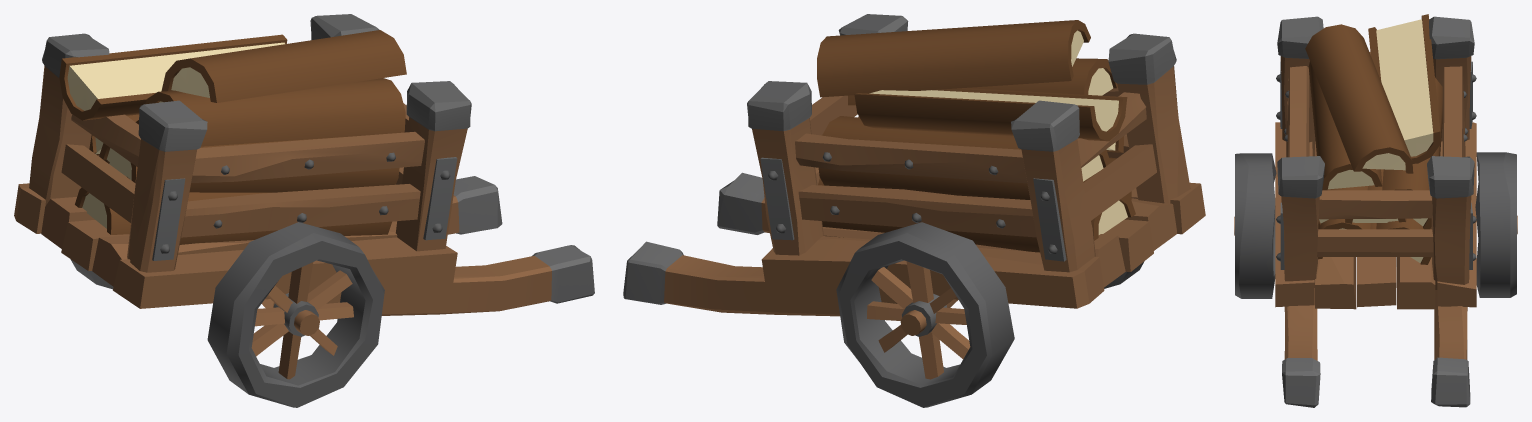
Rendered from Wagon_E.fbx.
3 views of the same model, side by side, from view 1: azimuth 30°, elevation 25°; view 2: azimuth 150°, elevation 25°; view 3: azimuth 270°, elevation 25° (orthographic). The views are drawn at different scales.
Visible parts, largest first — view 1: Wagon_E; view 2: Wagon_E; view 3: Wagon_E.
Part boxes in pixels (left/top/right/bottom): Wagon_E: left=14, top=14, right=594, bottom=407; Wagon_E: left=623, top=14, right=1205, bottom=407; Wagon_E: left=1234, top=14, right=1517, bottom=407.
Bounding box in the file's own units: 252 × 161 × 167.
